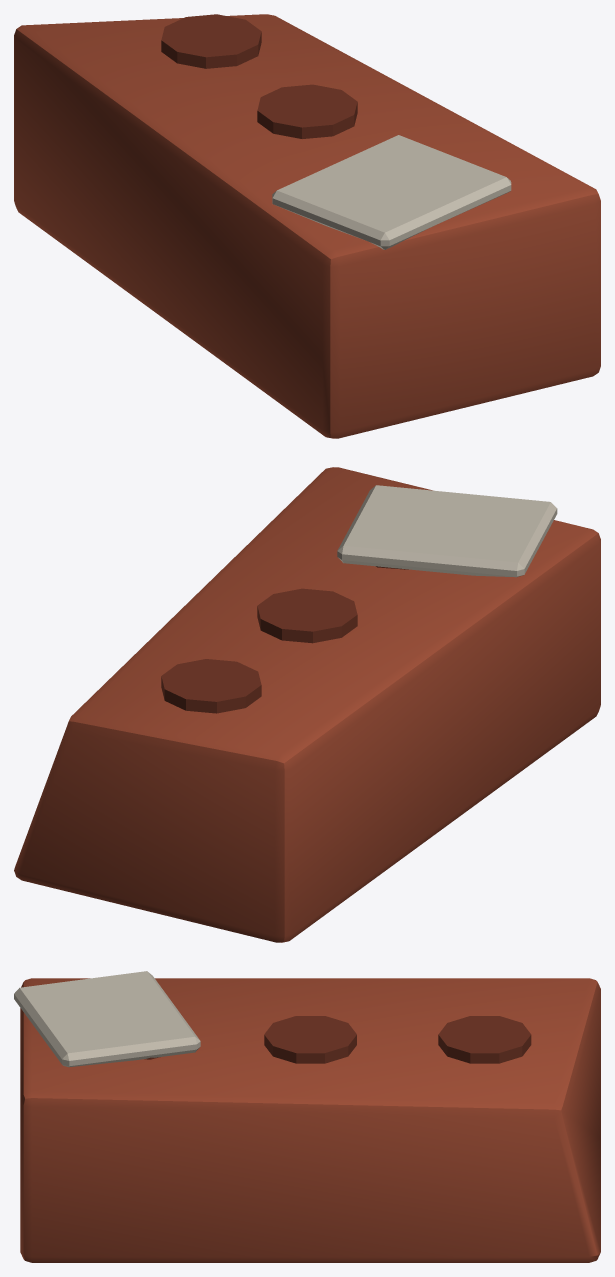
File: brick.glb
The picture shows the model from 3 angles, top to bottom: view 1: azimuth 30°, elevation 25°; view 2: azimuth 150°, elevation 25°; view 3: azimuth 270°, elevation 25°; orthographic projection. The views are drawn at different scales.
Visible parts, largest first — view 1: brick; view 2: brick; view 3: brick.
Boxes of the visible parts, left/top/right/bottom form: brick: left=14, top=14, right=600, bottom=438; brick: left=14, top=467, right=600, bottom=942; brick: left=14, top=971, right=600, bottom=1262.
Bounding box in the file's own units: 0.0989 × 0.0683 × 0.2.
